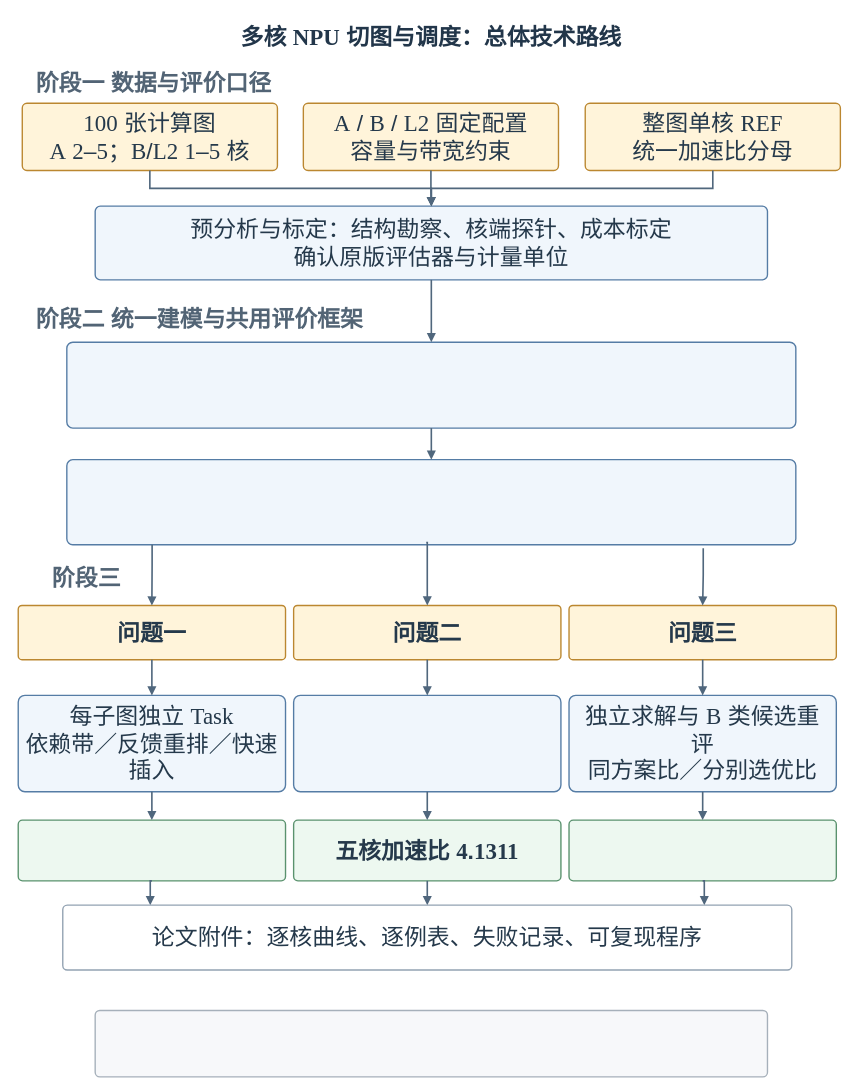
Image size: 862x1091. Some labels were removed from this diagram. Here are the shapes that lost their labels. From the top down, the box of each, then its label:
(66, 341, 796, 428): 联合方案 P =( g , a , π)：切分、核心归属、核上顺序 合法性为硬约束；按 ( Makespan , 新增 COPY , 名称) 选优
(66, 459, 796, 545): 按场景生成候选 → 结构检查 → 原版完整评价 → 预算内更新 失败留痕；成功解按场景独立保留
(293, 694, 561, 792): 每核合成 Task 活动核／驻留／实测 Spill 微批
(17, 819, 286, 881): 五核加速比 3 . 7433
(568, 819, 837, 881): 五核加速比 4 . 2190
(94, 1009, 768, 1077): 同一 P _ B 开关 L2 ： 1 . 016766 ；两配置分别选优： 1 . 027400 后者含选解变化，不能全归因于 L2
